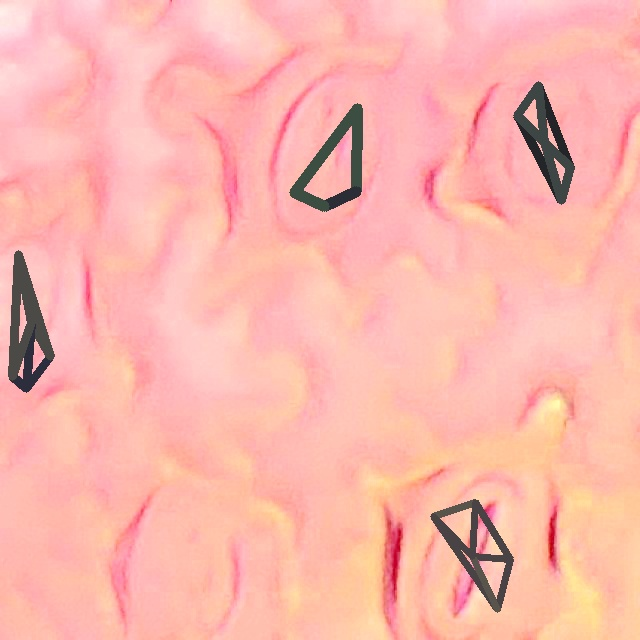close: (513, 81, 574, 204), (290, 103, 360, 210), (8, 251, 54, 392)
open: (430, 499, 513, 612)
